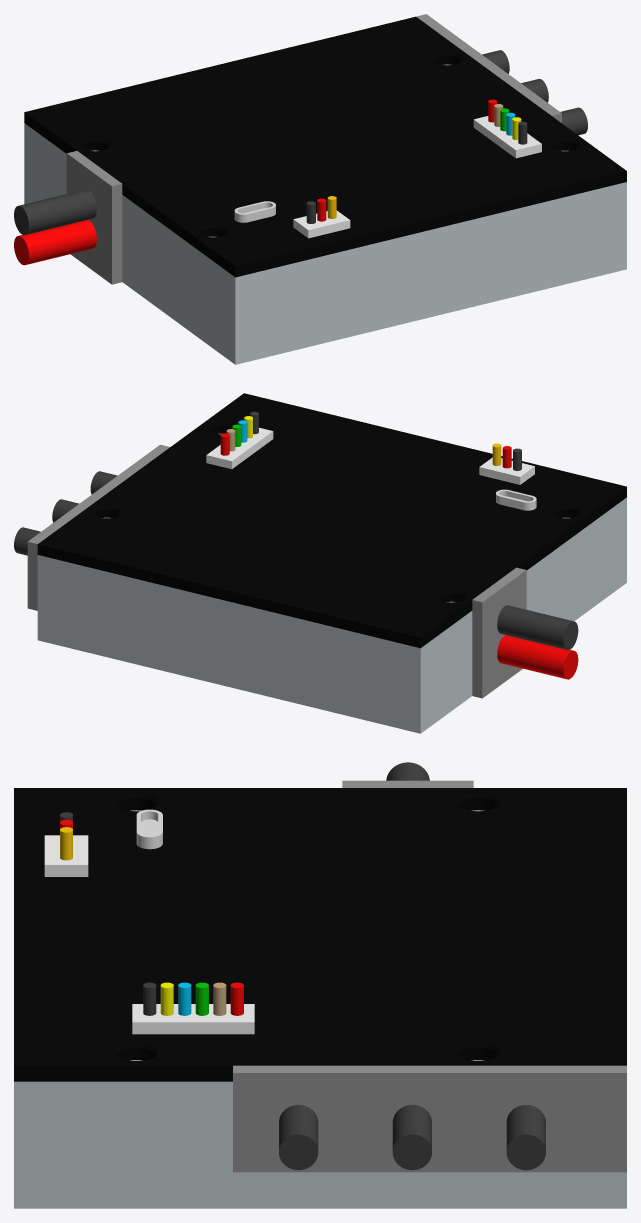
The model's file is vesc6.dae.
3 views of the same model, one above another, from view 1: azimuth 30°, elevation 25°; view 2: azimuth 150°, elevation 25°; view 3: azimuth 270°, elevation 25° (orthographic). The views are drawn at different scales.
Visible parts, largest first — view 1: node8, node0, node1, node3, node2, node4, node10, node9, node11, node5; view 2: node8, node0, node1, node3, node2, node4, node10, node9, node11; view 3: node8, node0, node4, node10, node7, node6, node5, node9, node1, node11, node3.
Boxes of the visible parts, x1,y1,x2,y2 form: node8: (24, 16, 626, 277); node0: (24, 64, 626, 364); node1: (66, 151, 122, 284); node3: (14, 189, 96, 235); node2: (14, 219, 96, 265); node4: (416, 14, 561, 122); node10: (473, 116, 541, 158); node9: (293, 210, 350, 238); node11: (234, 201, 275, 222); node5: (560, 107, 587, 135); node8: (37, 393, 626, 648); node0: (37, 433, 626, 733); node1: (472, 567, 526, 698); node3: (497, 605, 578, 649); node2: (497, 635, 578, 679); node4: (27, 444, 169, 610); node10: (206, 427, 273, 469); node9: (479, 457, 534, 484); node11: (496, 489, 536, 510); node8: (14, 788, 626, 1081); node0: (14, 810, 626, 1208); node4: (233, 1065, 626, 1172); node10: (132, 1004, 254, 1034); node7: (506, 1105, 545, 1170); node6: (392, 1105, 431, 1170); node5: (279, 1105, 318, 1170); node9: (44, 835, 88, 876); node1: (342, 780, 473, 787); node11: (136, 809, 162, 849); node3: (386, 762, 429, 780).
Bounding box in the file's own units: 0.1 × 0.07 × 0.023.
